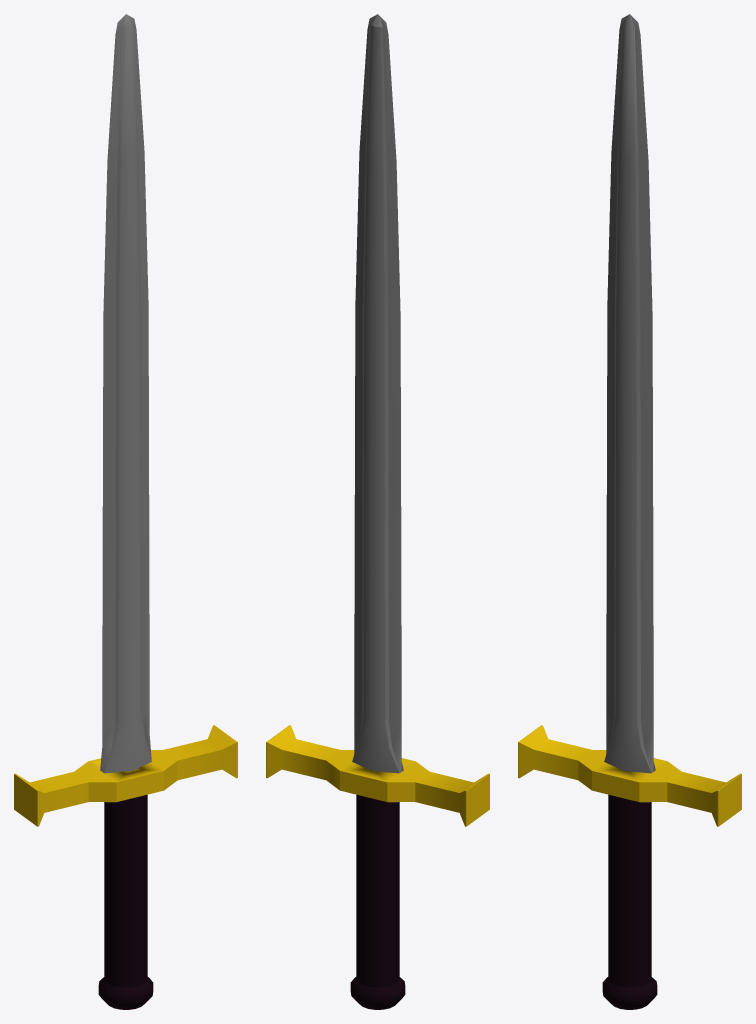
File: sword.fbx
3 renders of one model, left to right at view 1: azimuth 30°, elevation 25°; view 2: azimuth 150°, elevation 25°; view 3: azimuth 330°, elevation 25°, orthographic.
Visible parts, largest first — view 1: sword; view 2: sword; view 3: sword.
Part boxes in pixels (left/top/right/bottom): sword: left=14, top=14, right=237, bottom=1009; sword: left=266, top=14, right=489, bottom=1009; sword: left=518, top=14, right=741, bottom=1009.
Bounding box in the file's own units: 0.1813 × 0.8579 × 0.0449.
